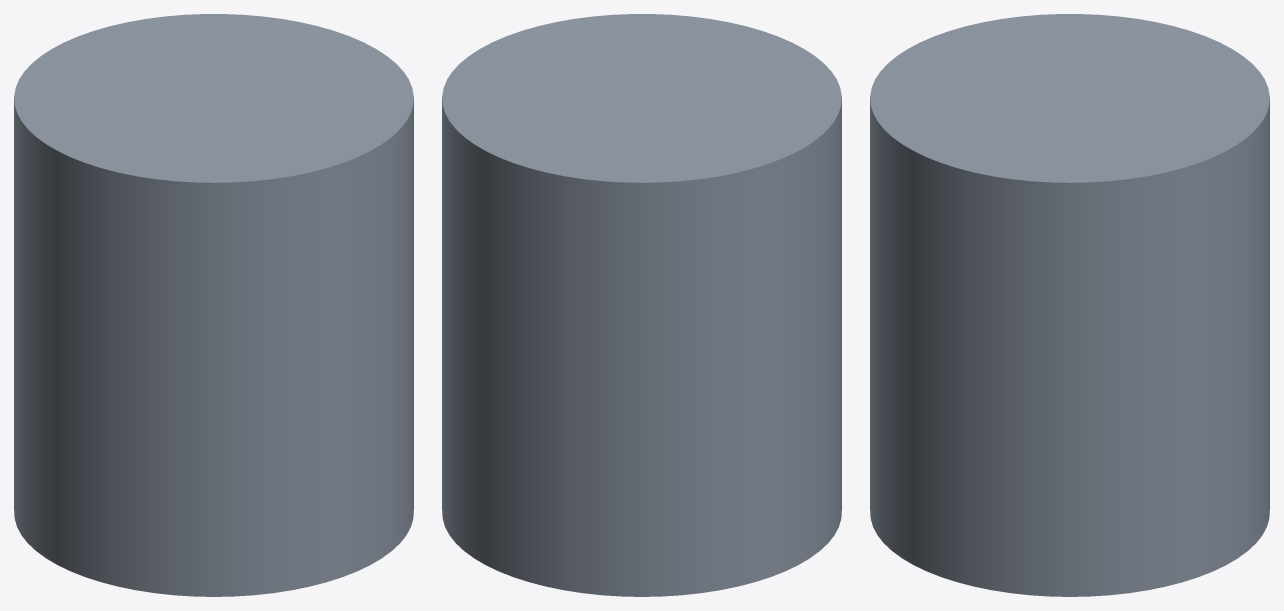
File: step_01.glb
The picture shows the model from 3 angles, left to right: view 1: azimuth 30°, elevation 25°; view 2: azimuth 150°, elevation 25°; view 3: azimuth 270°, elevation 25°; orthographic projection.
Visible parts, largest first — view 1: part__split clamp lever; view 2: part__split clamp lever; view 3: part__split clamp lever.
Part boxes in pixels (bbox=[...]): part__split clamp lever: bbox=[14, 14, 413, 596]; part__split clamp lever: bbox=[442, 14, 841, 596]; part__split clamp lever: bbox=[870, 14, 1269, 596].
Size of the model in its own units: 41.97 by 48 by 41.99.
